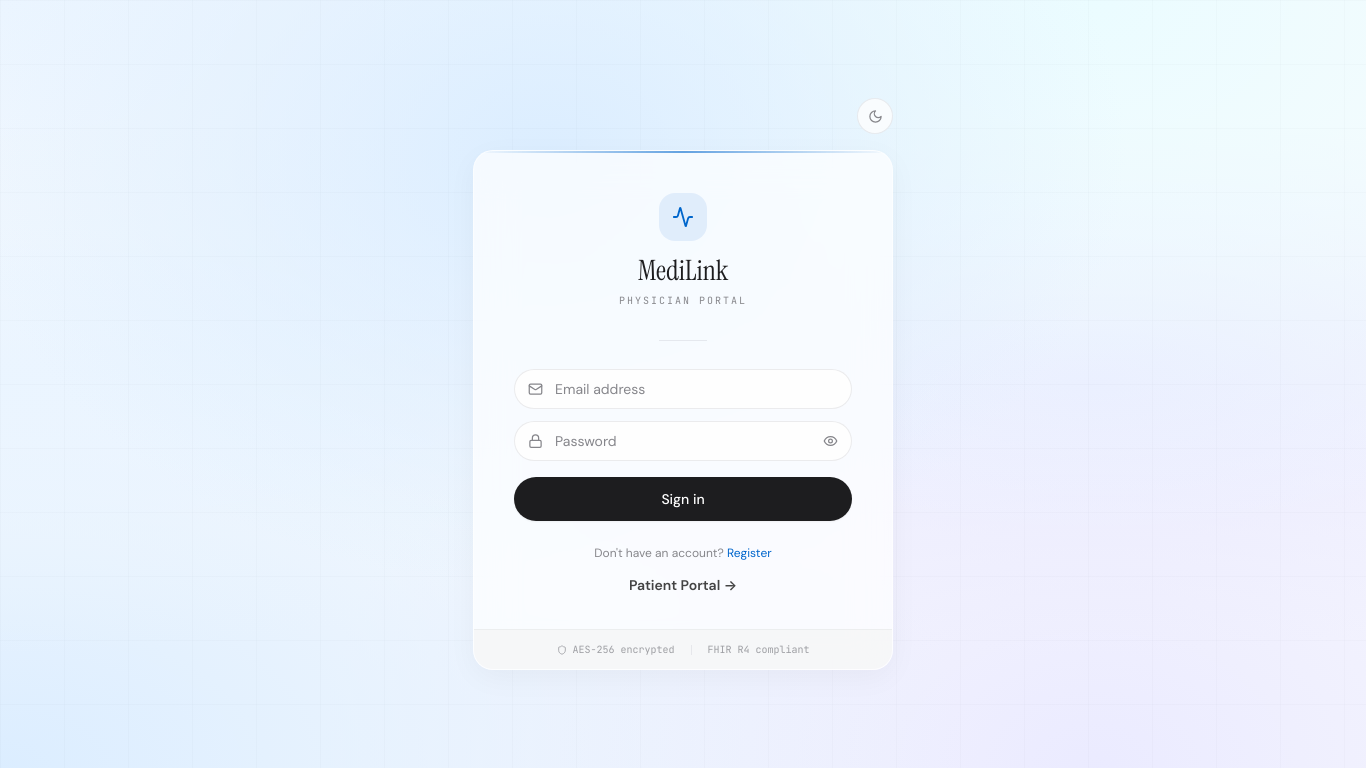
Test: LoginForm › shows error on invalid credentials
Type "bad@test.com" into the field with placeholder "Email address" at (683, 389), box [514,369,852,409]
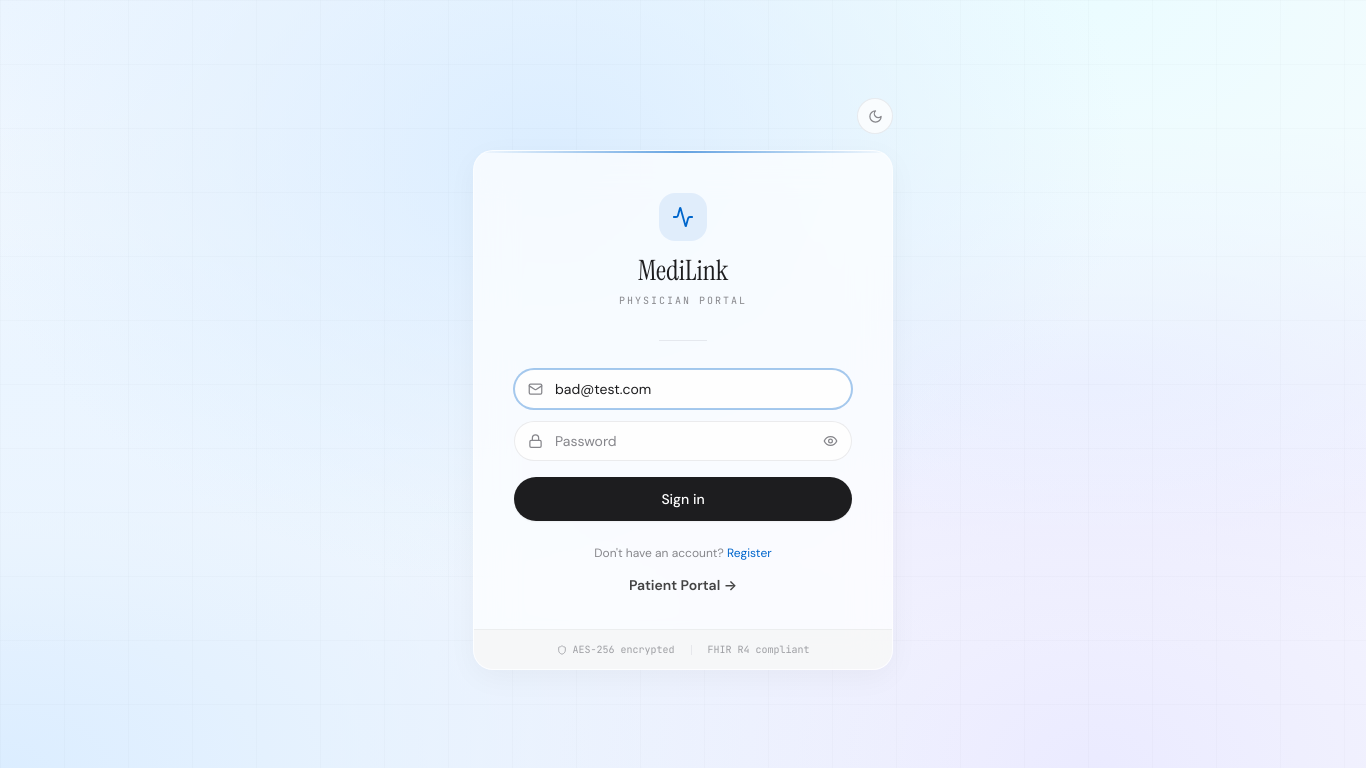
Type "wrong" into the password field with placeholder "Password" at (683, 441), box [514,421,852,461]
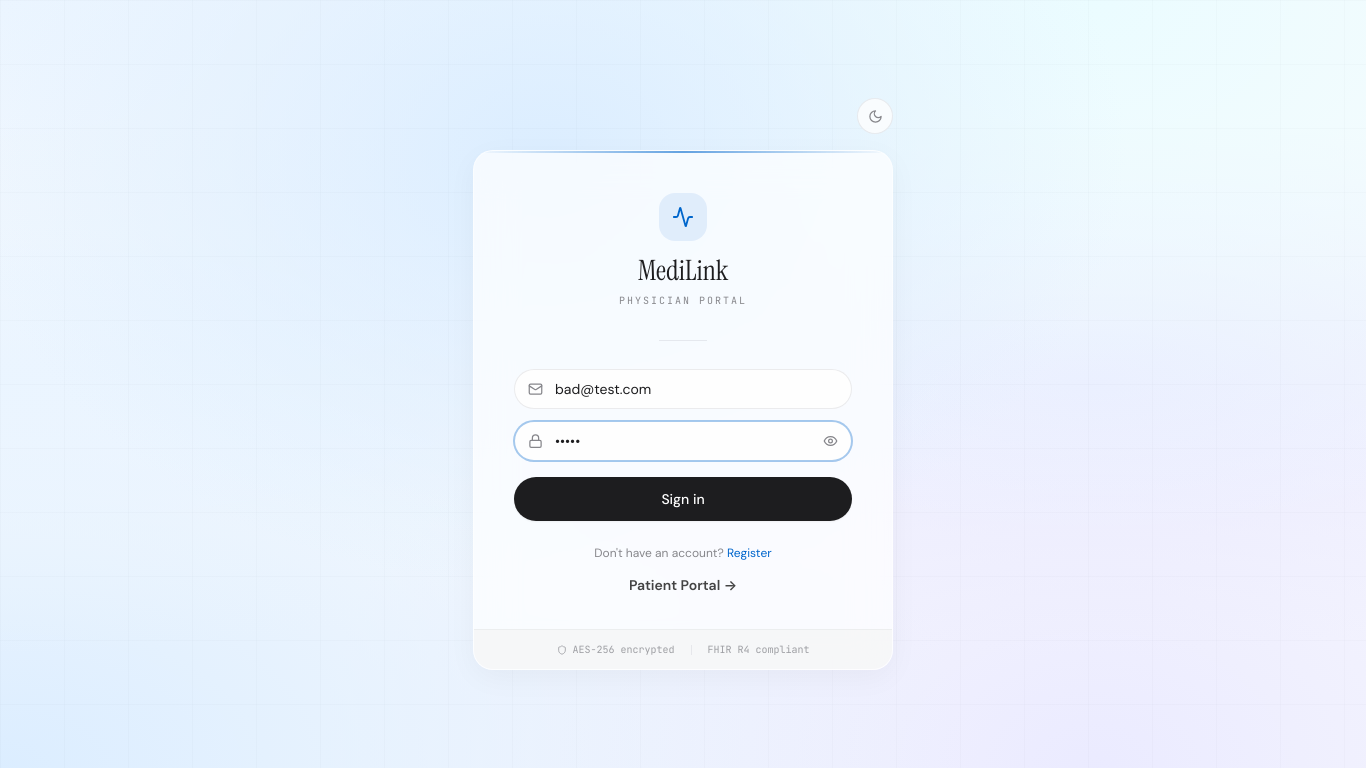
Click the button "Sign in" at (683, 499), box [514,477,852,521]
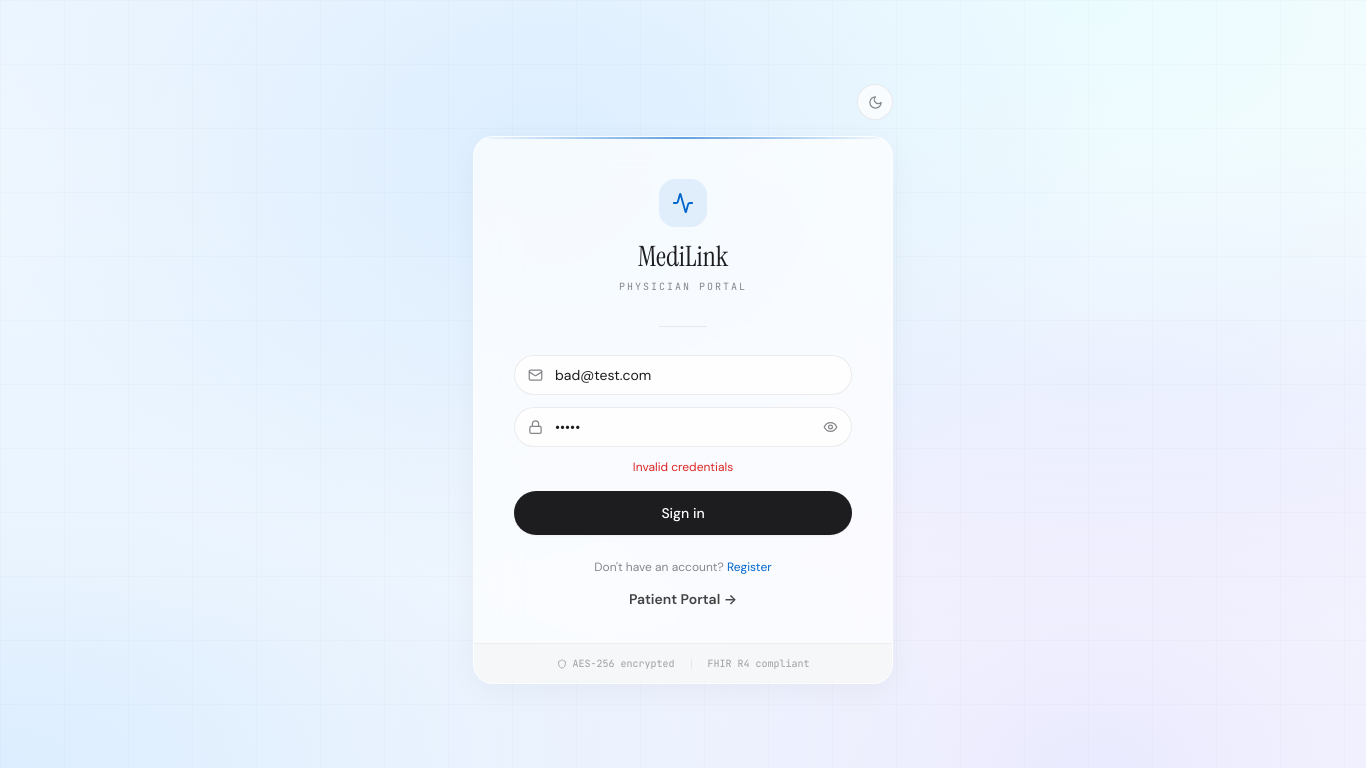
Expected: the text "Invalid credentials" is shown, [633,459,733,475]
